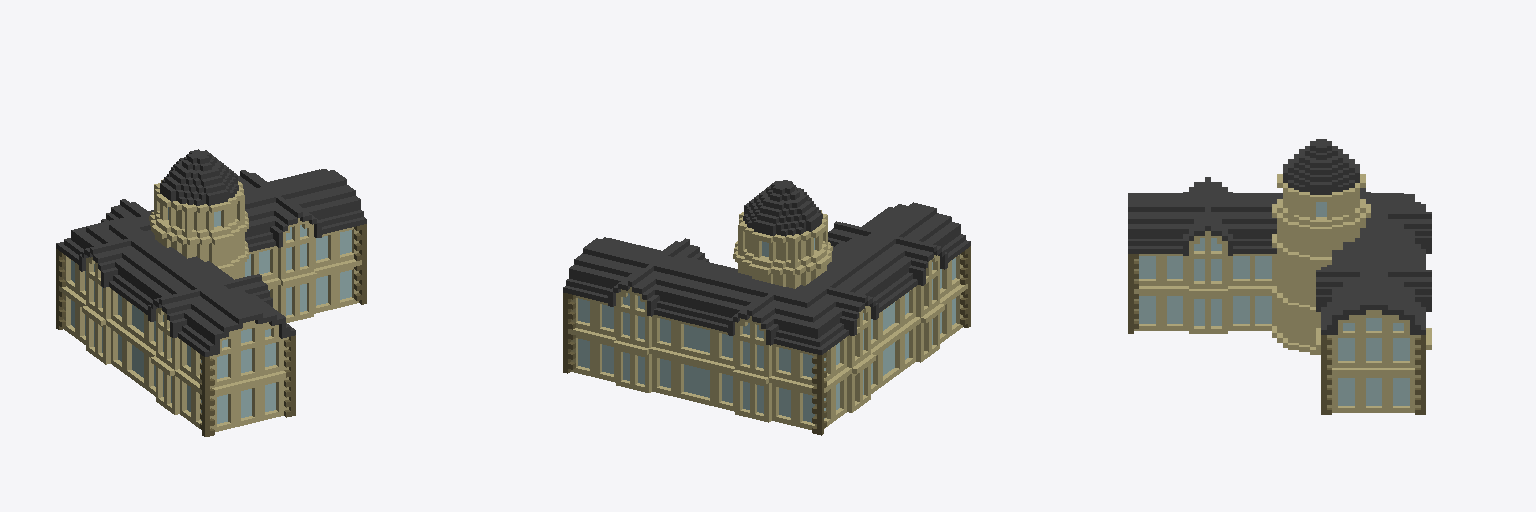
3 renders of one model, left to right at view 1: azimuth 30°, elevation 25°; view 2: azimuth 150°, elevation 25°; view 3: azimuth 270°, elevation 25°, orthographic.
Parts seen in each view (by area): view 1: French_Corner; view 2: French_Corner; view 3: French_Corner.
Boxes of the visible parts, <box> form: French_Corner: <box>56,149,366,436</box>; French_Corner: <box>563,180,970,435</box>; French_Corner: <box>1128,139,1431,414</box>.
Size of the model in its own units: 55 by 38 by 55.
1 materials, 1 textured.